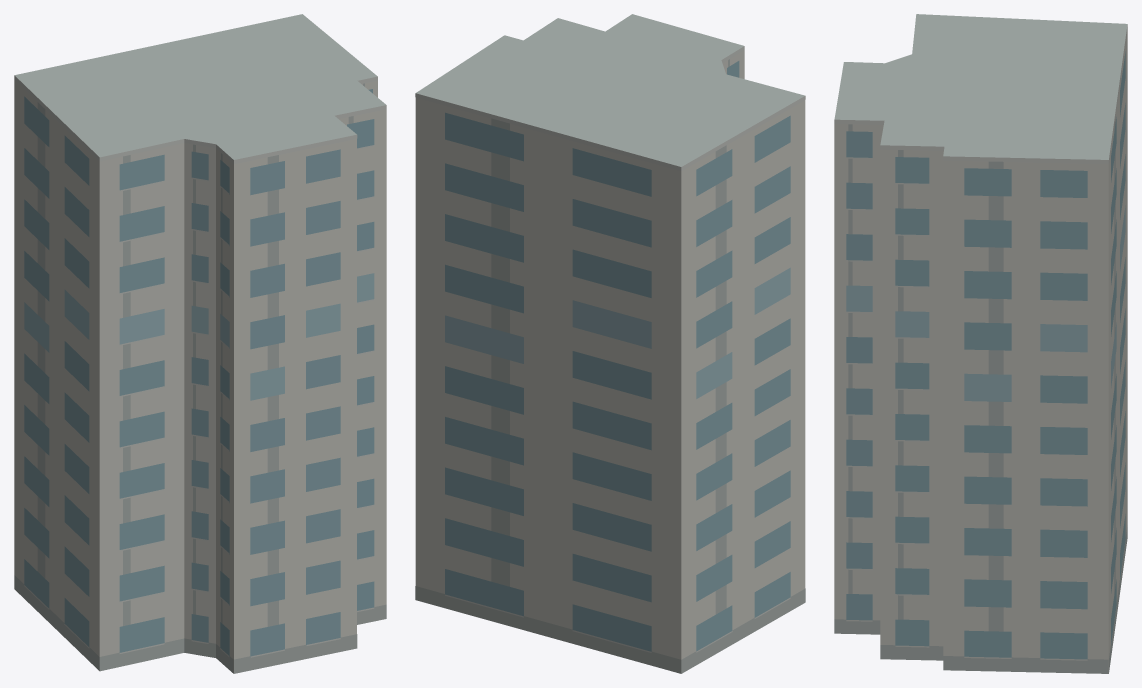
Rendered from residential-42a85aee-de99-487a-abbe-070a32589392.glb.
The picture shows the model from 3 angles, left to right: view 1: azimuth 30°, elevation 25°; view 2: azimuth 150°, elevation 25°; view 3: azimuth 270°, elevation 25°; orthographic projection.
Parts seen in each view (by area): view 1: residential-42a85aee-de99-487a-abbe-070a32589392.tmp; view 2: residential-42a85aee-de99-487a-abbe-070a32589392.tmp; view 3: residential-42a85aee-de99-487a-abbe-070a32589392.tmp.
Boxes of the visible parts, x1,y1,x2,y2 form: residential-42a85aee-de99-487a-abbe-070a32589392.tmp: (14, 14, 386, 673); residential-42a85aee-de99-487a-abbe-070a32589392.tmp: (415, 14, 805, 673); residential-42a85aee-de99-487a-abbe-070a32589392.tmp: (834, 14, 1127, 673).
Bounding box in the file's own units: 18.28 × 30 × 15.52.
